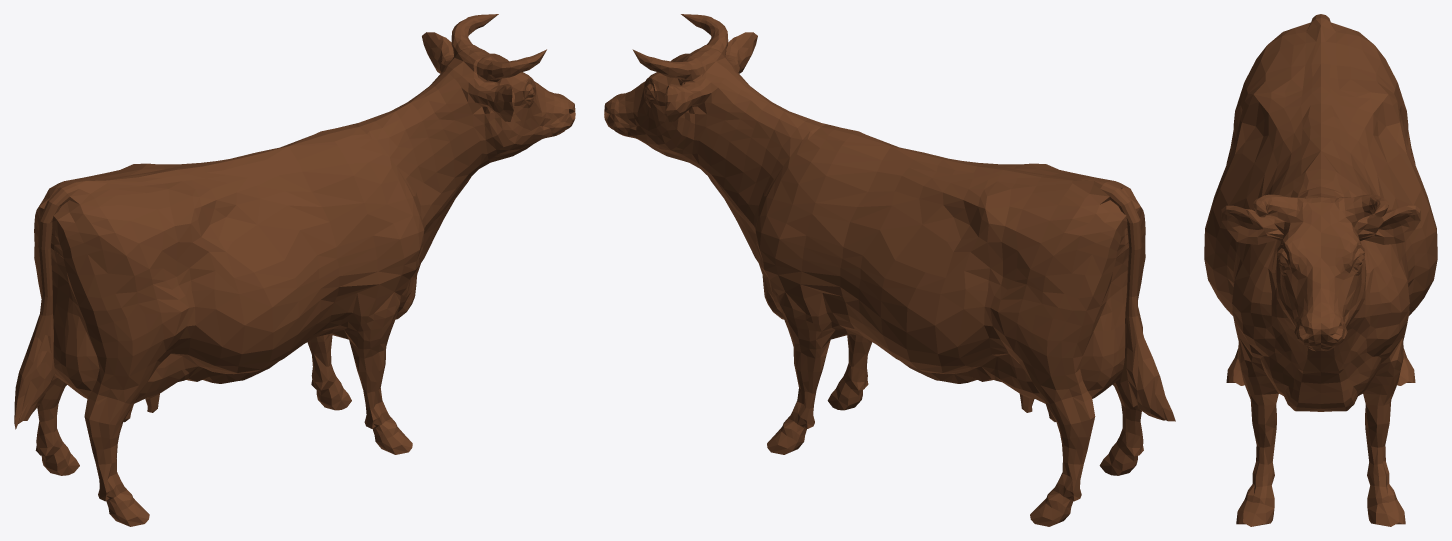
File: cow.obj
3 views of the same model, side by side, from view 1: azimuth 30°, elevation 25°; view 2: azimuth 150°, elevation 25°; view 3: azimuth 270°, elevation 25° (orthographic). The views are drawn at different scales.
Visible parts, largest first — view 1: cow-nonormals; view 2: cow-nonormals; view 3: cow-nonormals.
Boxes of the visible parts, x1=… form: cow-nonormals: x1=14, y1=14, x2=575, y2=526; cow-nonormals: x1=604, y1=14, x2=1175, y2=526; cow-nonormals: x1=1204, y1=14, x2=1437, y2=526.
Bounding box in the file's own units: 10.44 × 6.4 × 3.4.
